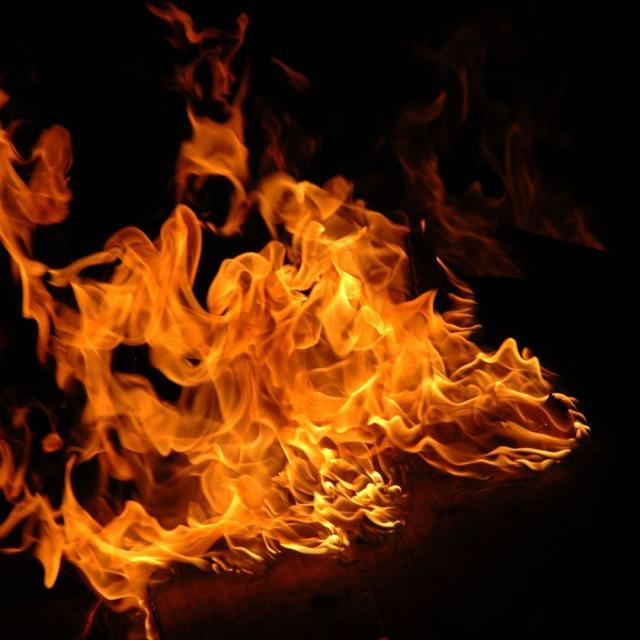Fire: (1, 20, 604, 583)
